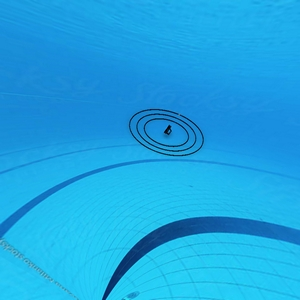circle: (127, 103, 207, 160)
submarine: (165, 125, 172, 134)
